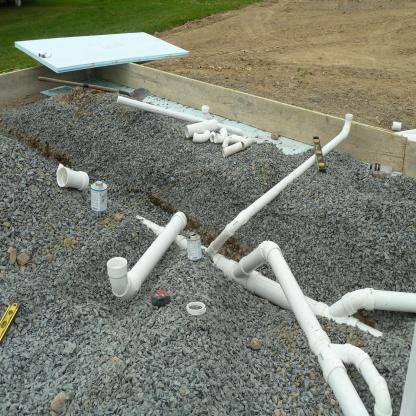PVC: (202, 112, 393, 416), (106, 211, 186, 299), (117, 97, 242, 135), (331, 291, 415, 316), (56, 167, 88, 192), (222, 136, 252, 157), (185, 121, 218, 137), (192, 129, 210, 143), (215, 128, 228, 144), (210, 132, 215, 143)
